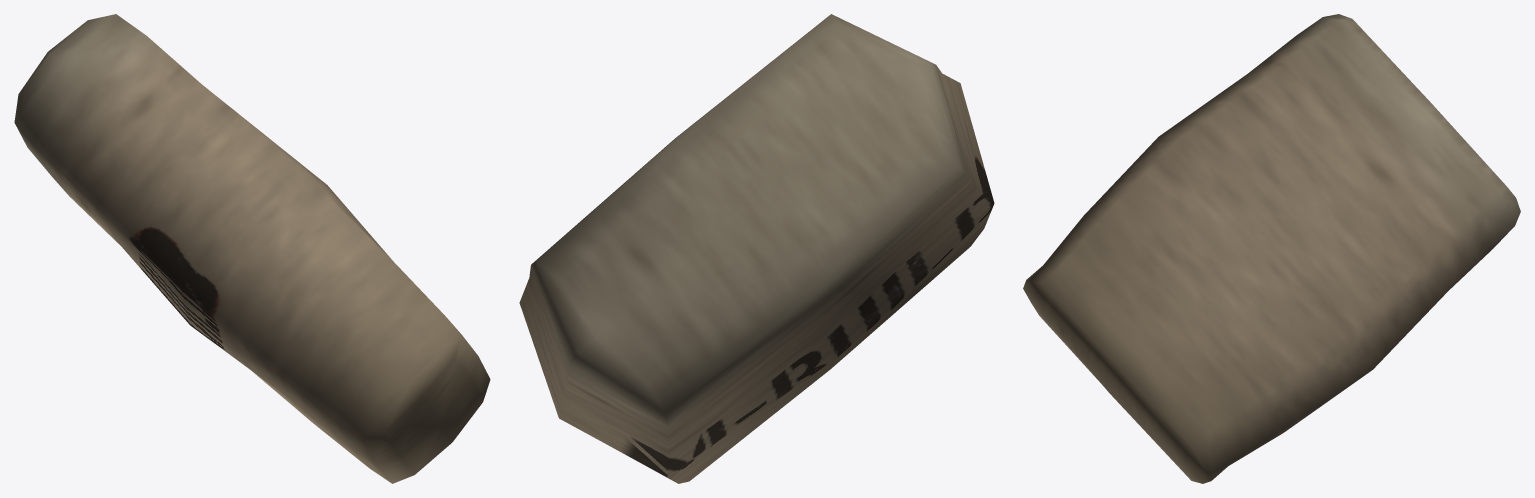
The model's file is Body1.gltf.
3 renders of one model, left to right at view 1: azimuth 30°, elevation 25°; view 2: azimuth 150°, elevation 25°; view 3: azimuth 270°, elevation 25°, orthographic. The views are drawn at different scales.
Visible parts, largest first — view 1: CementV1; view 2: CementV1; view 3: CementV1.
Boxes of the visible parts, <box> form: CementV1: <box>14,14,490,483</box>; CementV1: <box>519,14,994,483</box>; CementV1: <box>1023,14,1520,483</box>.
Bounding box in the file's own units: 0.8814 × 0.9937 × 1.18.
Materials: 1 (1 with a texture image).
